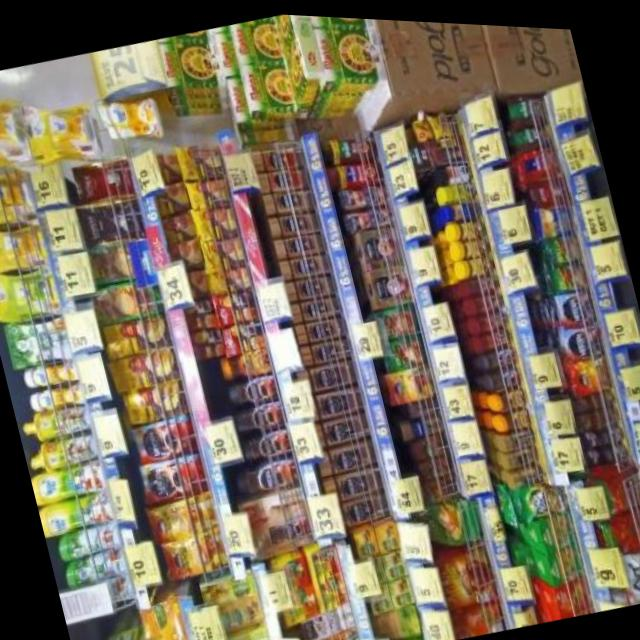Coffee: (140, 448, 207, 504), (150, 491, 218, 544), (131, 411, 197, 464), (162, 528, 228, 578), (232, 448, 298, 495), (314, 432, 377, 474), (308, 406, 370, 447), (328, 487, 389, 528), (302, 379, 364, 419), (322, 462, 384, 501), (295, 353, 355, 393), (383, 359, 434, 403), (233, 395, 285, 433), (240, 422, 292, 460), (226, 369, 278, 407), (219, 343, 271, 380), (266, 204, 320, 239), (277, 246, 332, 280), (288, 288, 341, 322), (272, 225, 326, 258), (562, 315, 604, 357), (568, 349, 610, 390), (283, 269, 336, 301), (300, 331, 351, 364), (295, 311, 346, 344), (264, 183, 314, 215), (556, 281, 594, 321), (497, 402, 530, 429), (493, 382, 526, 408), (503, 439, 538, 463), (500, 422, 535, 446), (488, 361, 521, 386), (483, 341, 516, 366), (511, 459, 544, 482), (606, 418, 624, 439), (609, 439, 626, 458), (586, 442, 602, 462), (582, 424, 598, 444)
